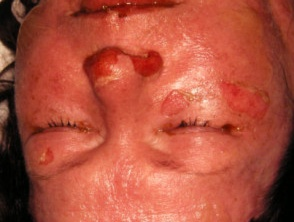SJS-TEN: (154, 66, 275, 128), (78, 32, 168, 98), (63, 0, 195, 25), (23, 135, 65, 176)
